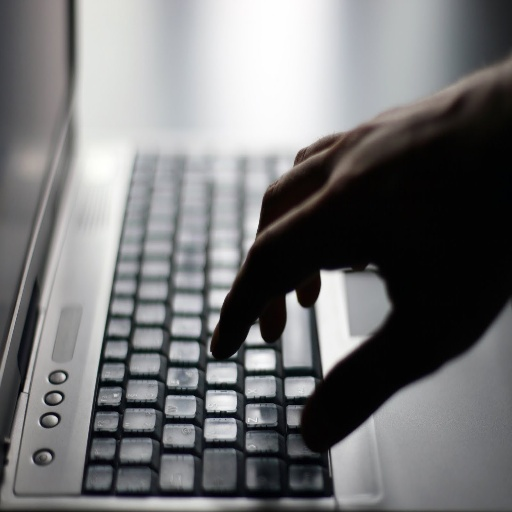hand: (208, 57, 511, 458)
